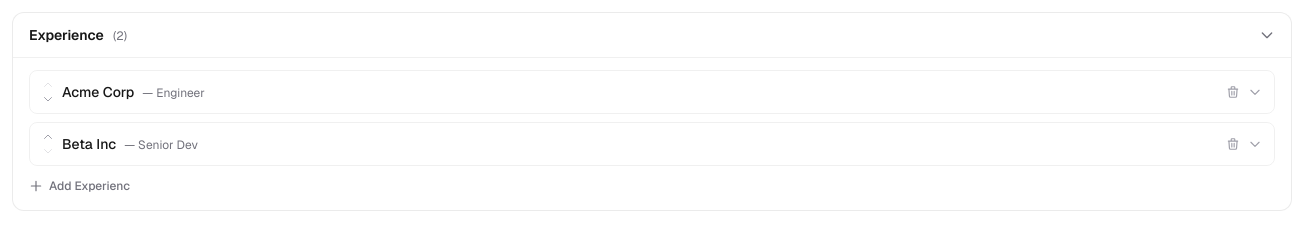
EditorSection › collapses and expands on header click
Expected: the text "Acme Corp" is shown, [62,83,134,101]
// Click header to collapse
Click the button "Experience (2)" at [66, 35], box [13,13,1291,57]
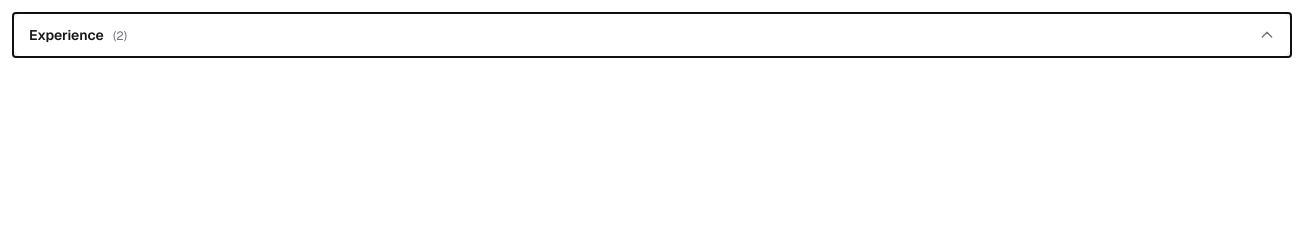
Result: the button "Acme Corp" is gone
